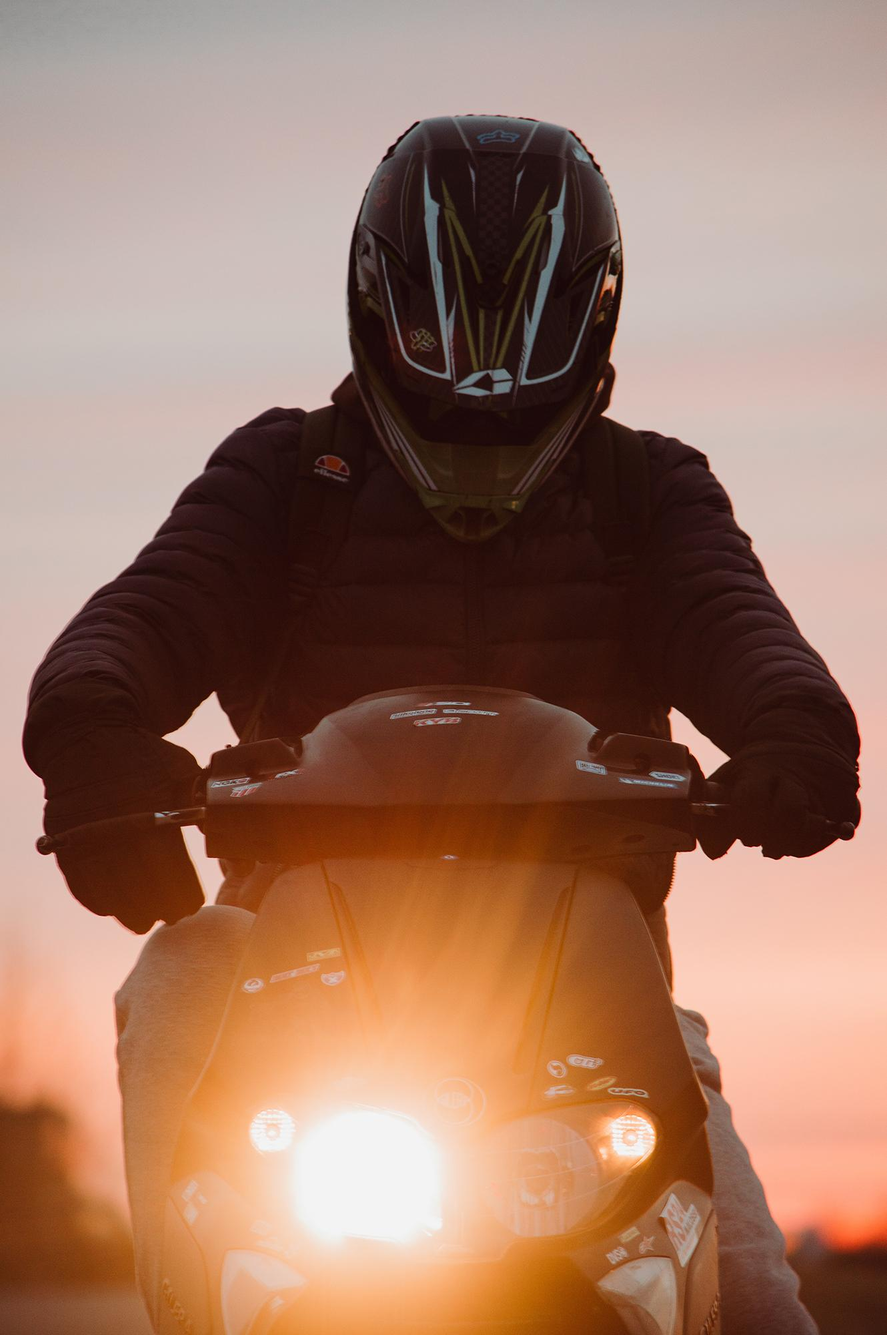helmet: (345, 112, 626, 548)
